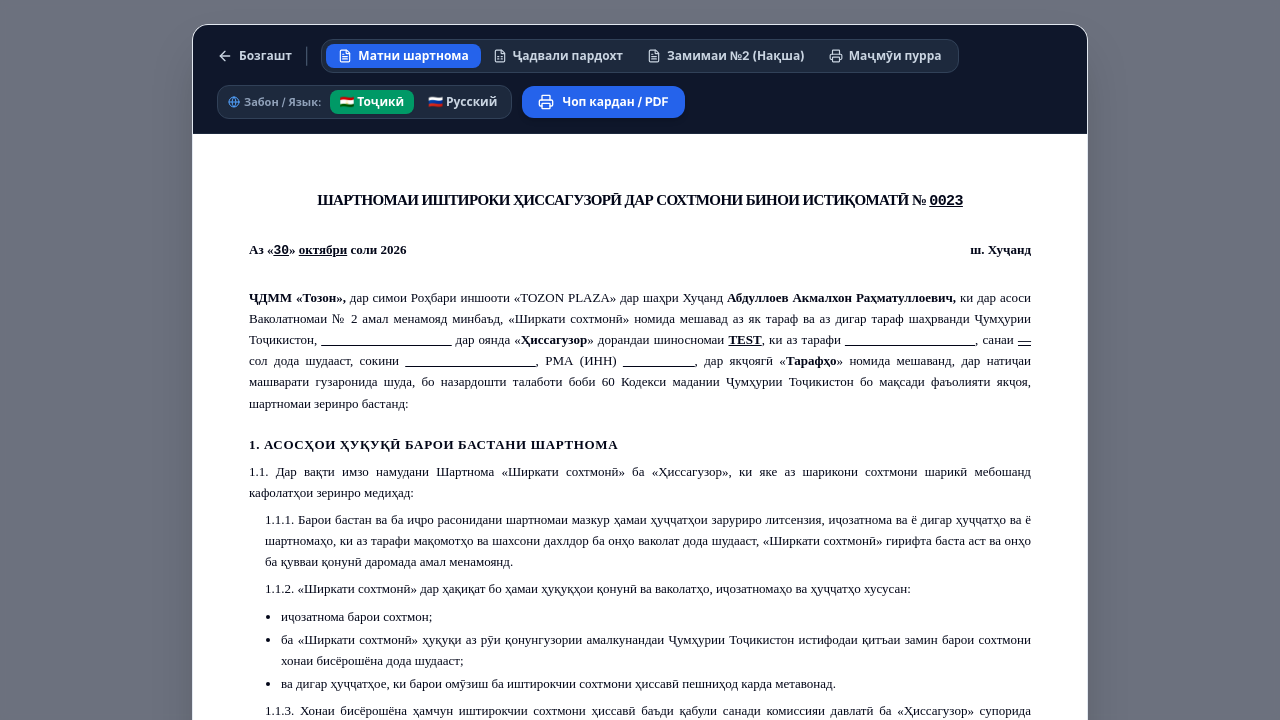
Test: prints real receipt dates and omits zero advance (TJ)
The image size is (1280, 720).
Click the button "Ҷадвали пардохт".
click(558, 56)  # box [481, 44, 635, 68]
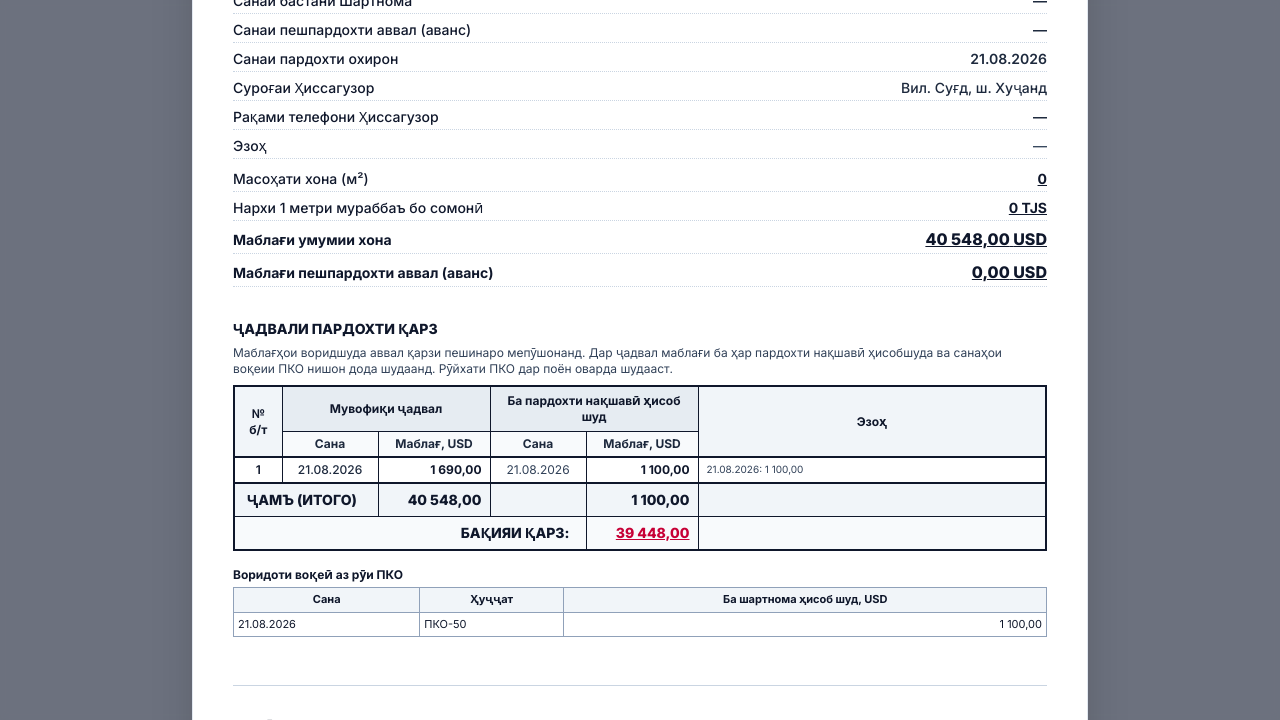
Expected: the cell "1" is shown, [234, 457, 282, 483]
Expected: the 2nd cell "21.08.2026" is shown, [490, 457, 586, 483]
